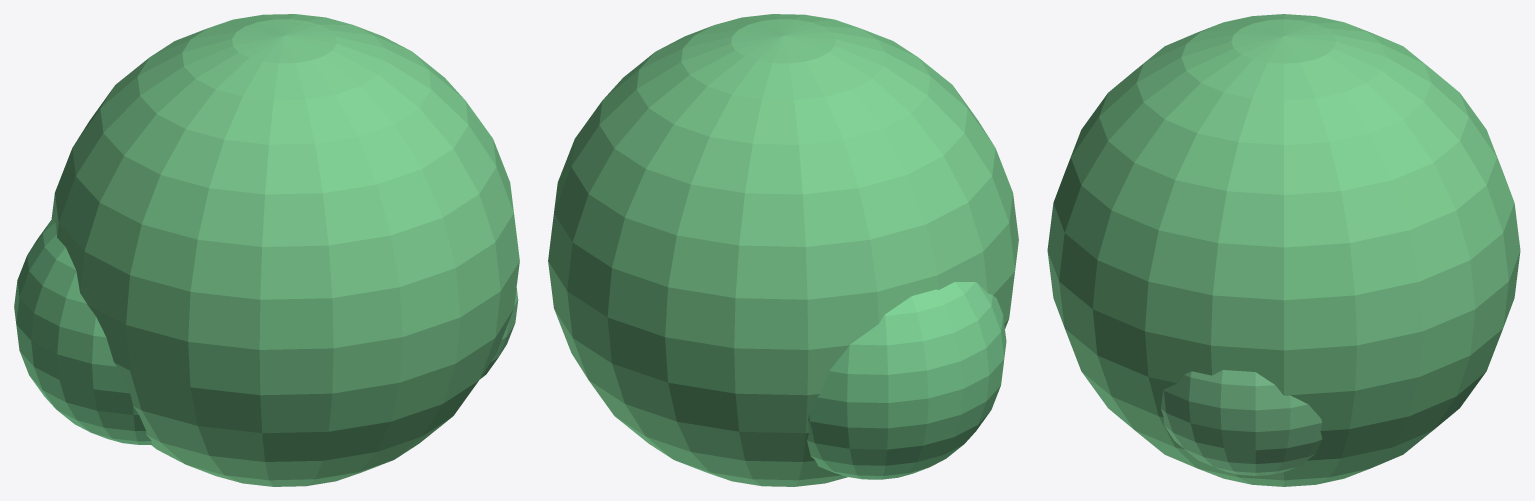
File: pickup.shrub.v1.glb
3 renders of one model, left to right at view 1: azimuth 30°, elevation 25°; view 2: azimuth 150°, elevation 25°; view 3: azimuth 270°, elevation 25°, orthographic.
Visible parts, largest first — view 1: pickup.shrub.v1_main, pickup.shrub.v1_side_l; view 2: pickup.shrub.v1_main, pickup.shrub.v1_side_l; view 3: pickup.shrub.v1_main, pickup.shrub.v1_side_r.
Part boxes in pixels (x1=…): pickup.shrub.v1_main: x1=51, y1=14, x2=519, y2=486; pickup.shrub.v1_side_l: x1=14, y1=219, x2=151, y2=444; pickup.shrub.v1_main: x1=548, y1=14, x2=1018, y2=486; pickup.shrub.v1_side_l: x1=807, y1=282, x2=1006, y2=479; pickup.shrub.v1_main: x1=1047, y1=14, x2=1520, y2=486; pickup.shrub.v1_side_r: x1=1161, y1=370, x2=1322, y2=475.
Bounding box in the file's own units: 0.53 × 0.5 × 0.5.
